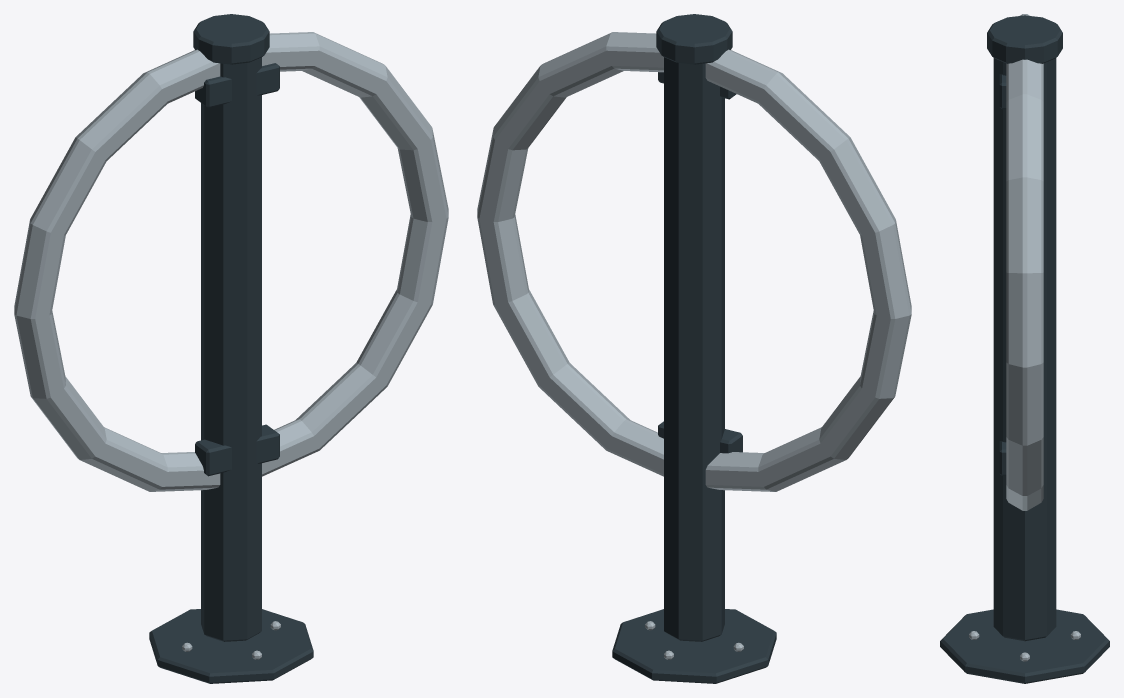
Rendered from b01_post_and_ring_bike_rack.glb.
3 views of the same model, side by side, from view 1: azimuth 30°, elevation 25°; view 2: azimuth 150°, elevation 25°; view 3: azimuth 270°, elevation 25° (orthographic).
Visible parts, largest first — view 1: b01_post_and_ring_bike_rack; view 2: b01_post_and_ring_bike_rack; view 3: b01_post_and_ring_bike_rack.
Boxes of the visible parts, left/top/right/bottom form: b01_post_and_ring_bike_rack: left=14, top=14, right=448, bottom=683; b01_post_and_ring_bike_rack: left=477, top=14, right=911, bottom=683; b01_post_and_ring_bike_rack: left=940, top=14, right=1109, bottom=683.
Bounding box in the file's own units: 0.7621 × 1.05 × 0.26.
